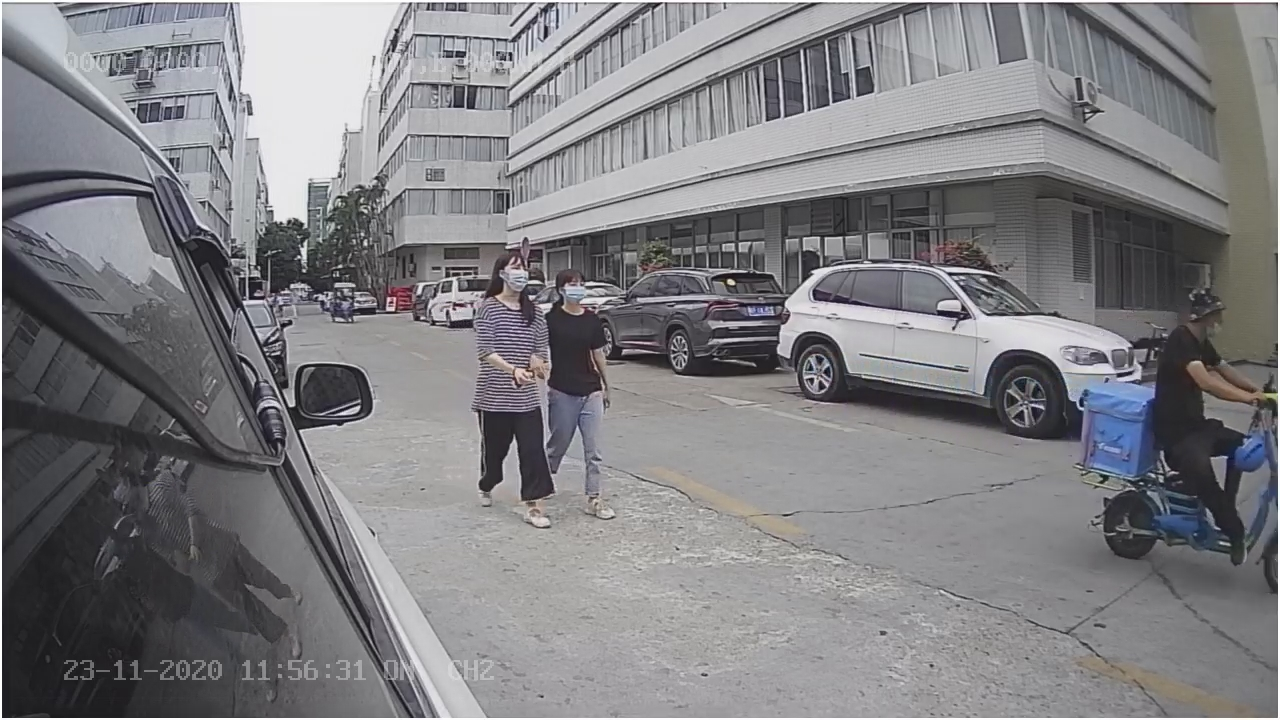person: (471, 252, 554, 533), (546, 268, 623, 520), (1152, 281, 1244, 444)
